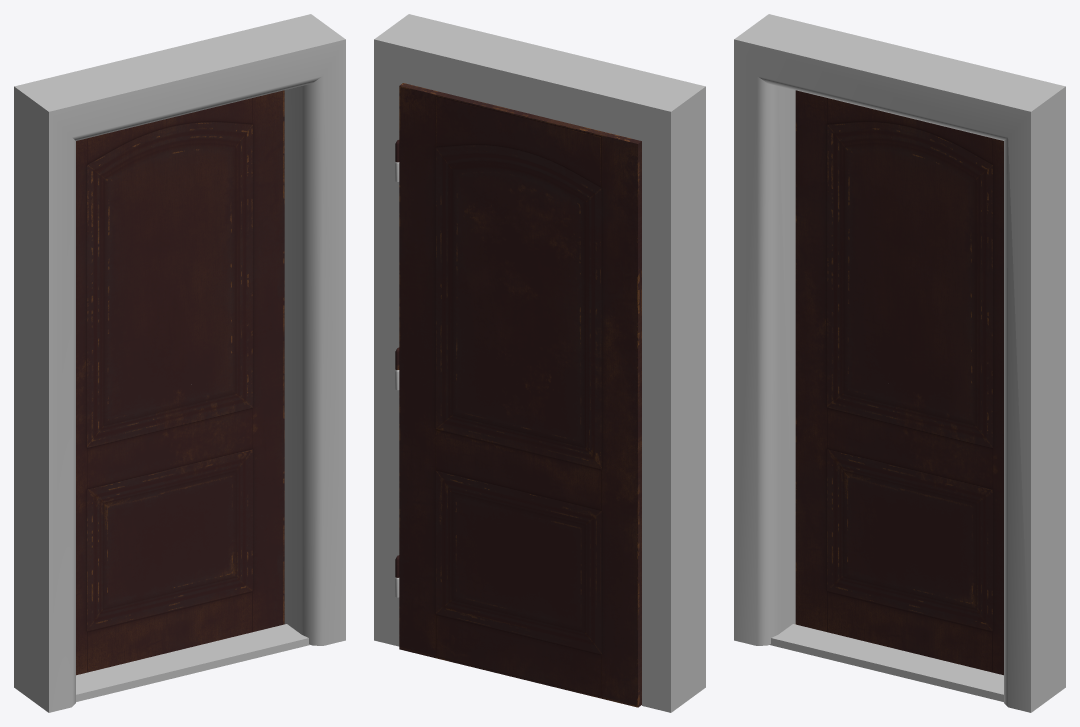
The picture shows the model from 3 angles, left to right: view 1: azimuth 30°, elevation 25°; view 2: azimuth 150°, elevation 25°; view 3: azimuth 330°, elevation 25°; orthographic projection.
Parts seen in each view (by area): view 1: doorWing, jj_door_1_red; view 2: doorWing, jj_door_1_red; view 3: doorWing, jj_door_1_red.
Boxes of the visible parts, x1,y1,x2,y2 form: doorWing: (76,90,284,675); jj_door_1_red: (14,14,345,712); doorWing: (395,83,641,707); jj_door_1_red: (374,14,705,712); doorWing: (795,90,1003,675); jj_door_1_red: (734,14,1065,712).
Size of the model in its own units: 112 by 217 by 25.4.
